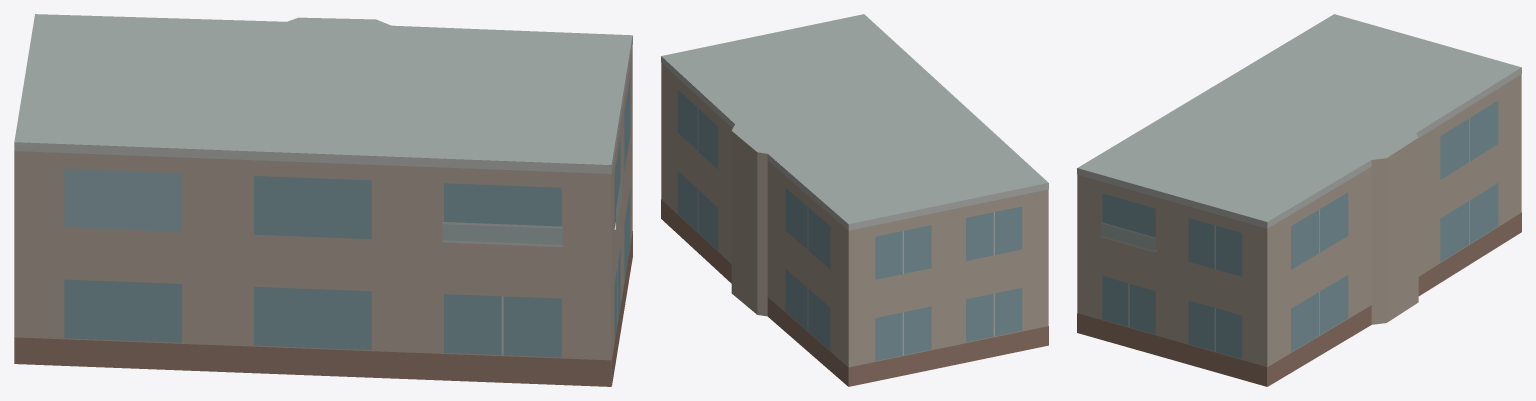
Rendered from survey-upis-32637874.glb.
3 renders of one model, left to right at view 1: azimuth 30°, elevation 25°; view 2: azimuth 150°, elevation 25°; view 3: azimuth 270°, elevation 25°, orthographic. The views are drawn at different scales.
Visible parts, largest first — view 1: survey-upis-32637874.tmp; view 2: survey-upis-32637874.tmp; view 3: survey-upis-32637874.tmp.
Boxes of the visible parts, x1=… form: survey-upis-32637874.tmp: x1=14, y1=14, x2=632, y2=386; survey-upis-32637874.tmp: x1=661, y1=14, x2=1048, y2=386; survey-upis-32637874.tmp: x1=1077, y1=14, x2=1521, y2=386.
Bounding box in the file's own units: 16.52 × 6.1 × 14.92.
